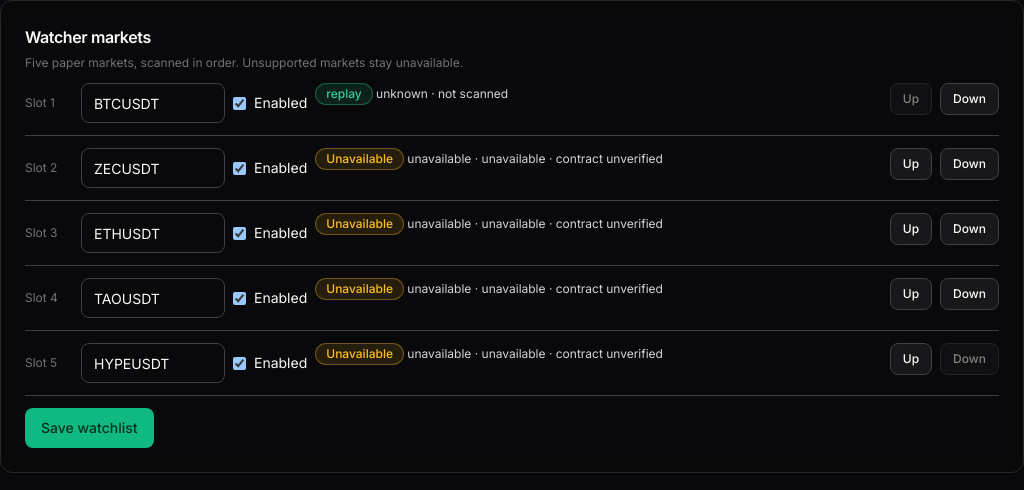
Test: symbol and revision status boundaries › refreshes configuration and status after a revisioned save
Expected: the button with test id "watchlist-save" is enabled, [25,408,154,448]
Replace the text in the field named "Symbol for slot 1" with "SOLUSDT" at (153, 103), box [81,83,225,123]
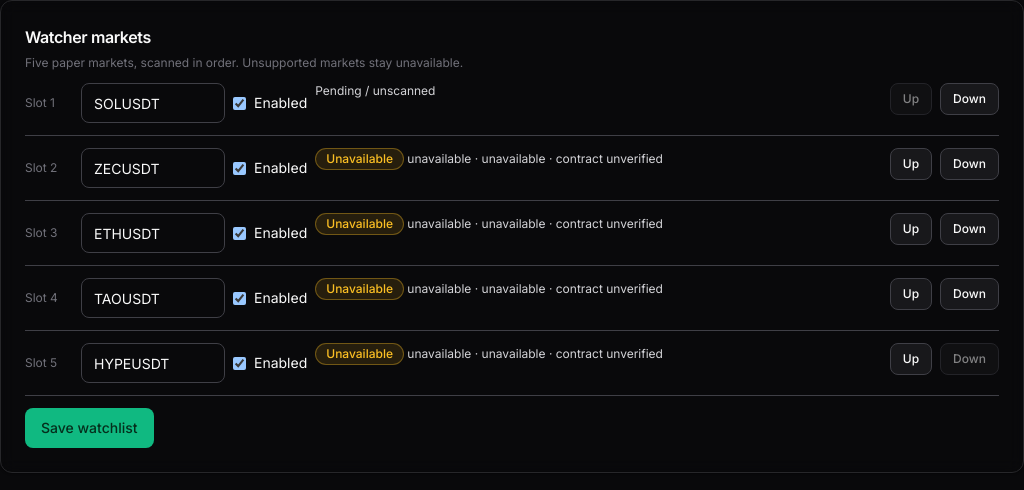
Expected: the text with test id "watchlist-status-1" reads "Pending / unscanned", [315,83,436,98]
Click the button with test id "watchlist-save" at (89, 428), box [25,408,154,448]
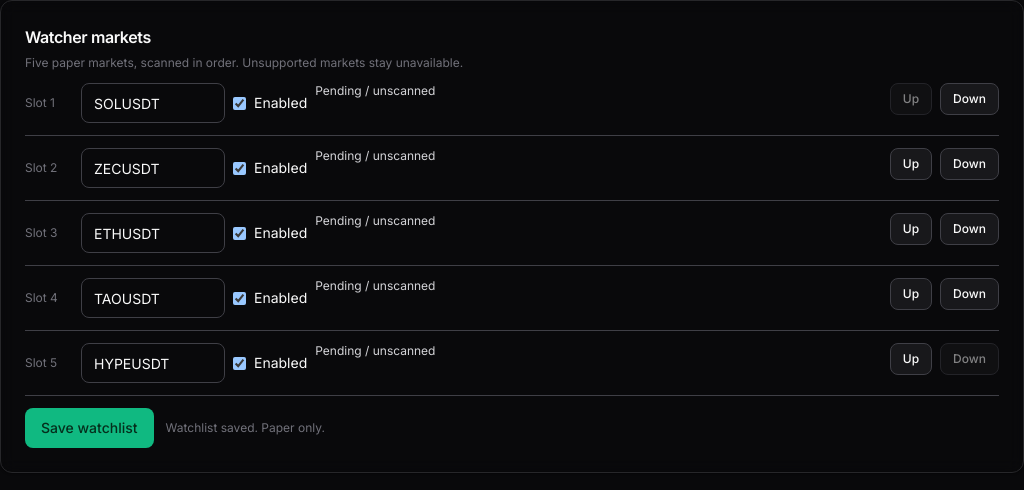
Expected: the text with test id "watchlist-status-1" reads "Pending / unscanned", [315,83,436,98]
Expected: the text "Watchlist saved. Paper only." is shown, [166,420,325,436]
